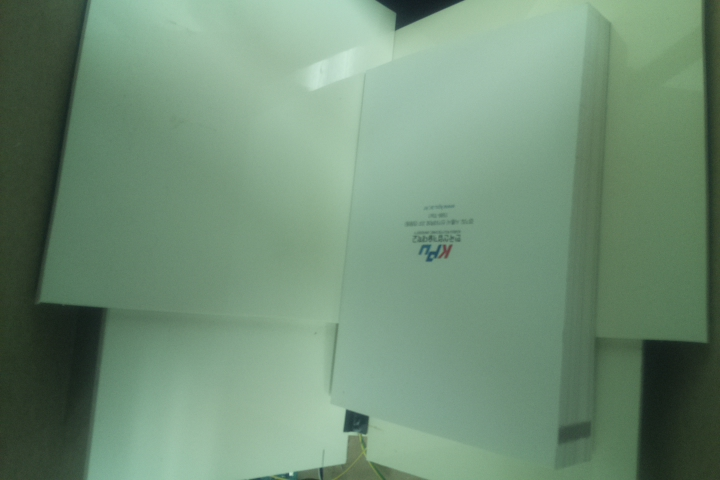book: (326, 1, 615, 471)
